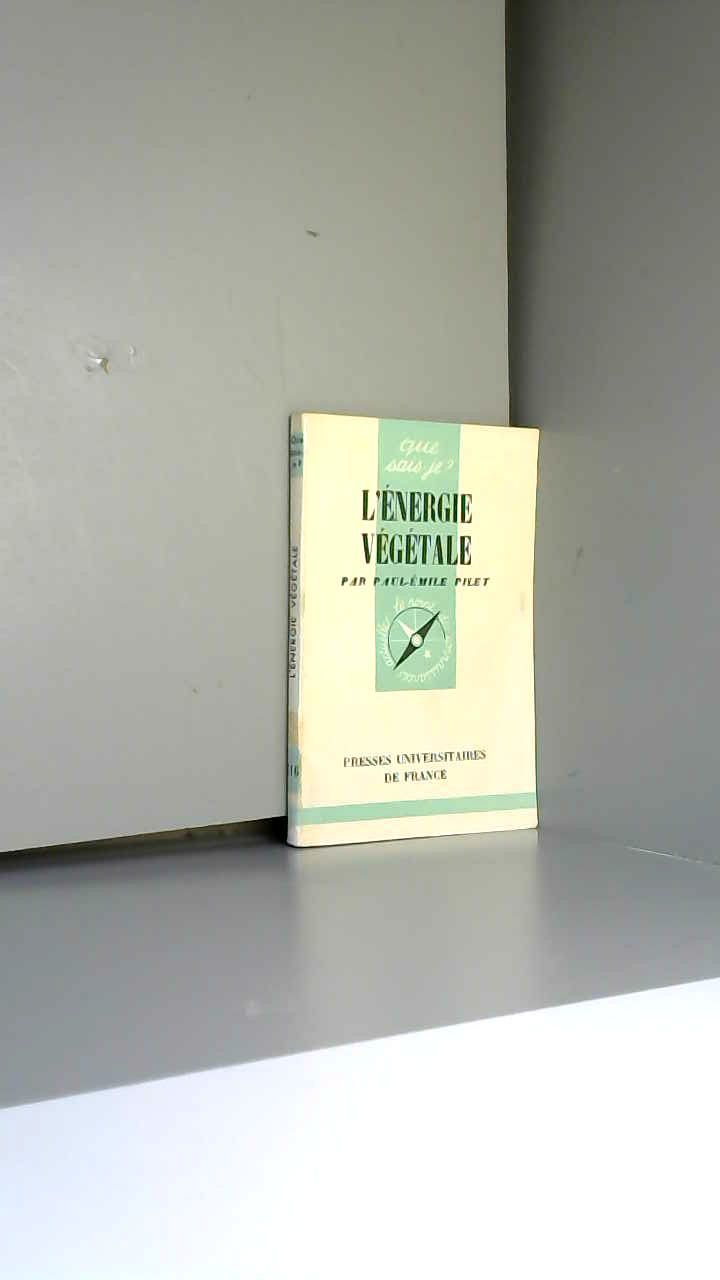book: (255, 372, 578, 890)
